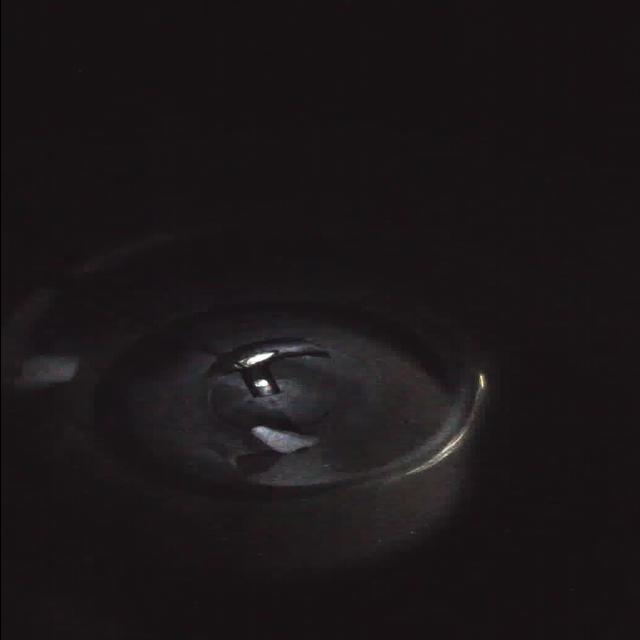impurity: (244, 418, 328, 458)
